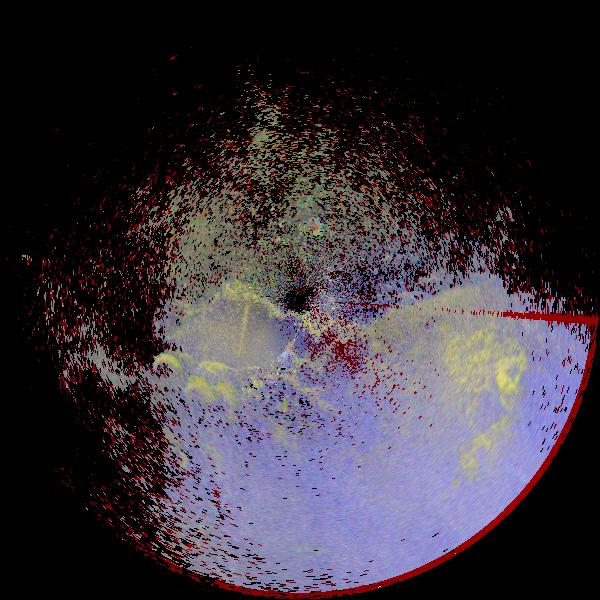roost: (148, 350, 184, 386), (183, 377, 216, 410), (167, 447, 191, 471)
